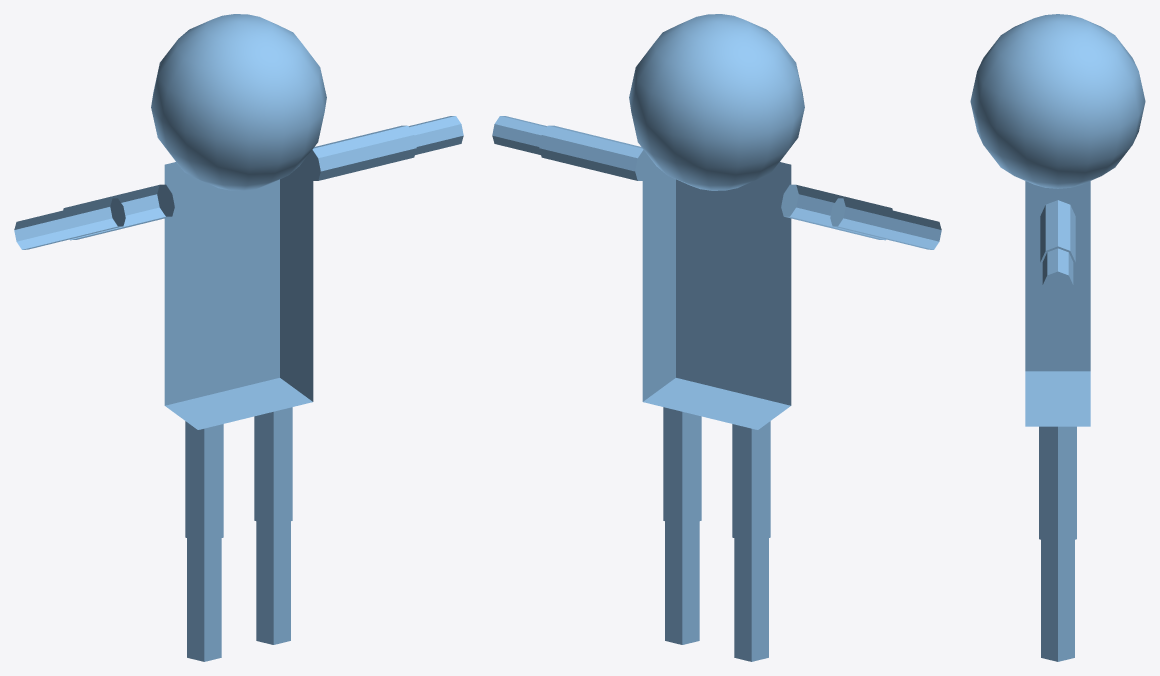
The model's file is blockman_tpose.glb.
3 renders of one model, left to right at view 1: azimuth 30°, elevation 25°; view 2: azimuth 150°, elevation 25°; view 3: azimuth 270°, elevation 25°, orthographic.
Parts seen in each view (by area): view 1: Blockman; view 2: Blockman; view 3: Blockman.
Part boxes in pixels (box(x1,y1,x2,y2)): Blockman: box(14, 14, 463, 661); Blockman: box(492, 14, 941, 661); Blockman: box(970, 14, 1145, 661).
Bounding box in the file's own units: 2.26 × 3.1 × 0.8.
